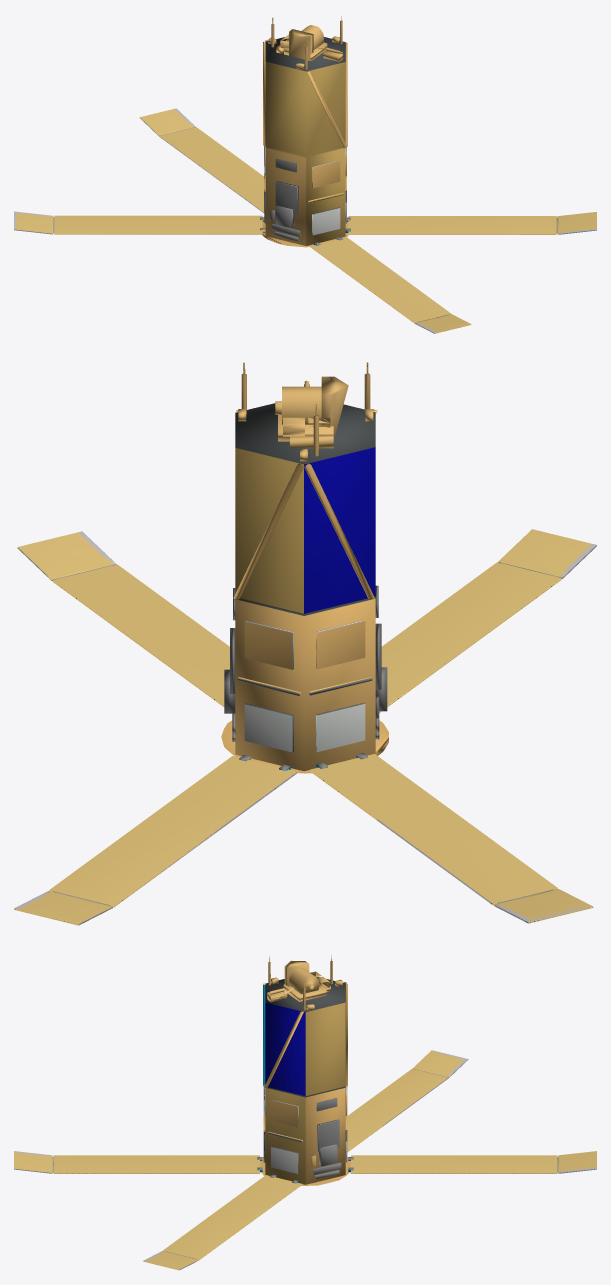
The model's file is seastar.glb.
The picture shows the model from 3 angles, top to bottom: view 1: azimuth 30°, elevation 25°; view 2: azimuth 150°, elevation 25°; view 3: azimuth 270°, elevation 25°; orthographic projection. The views are drawn at different scales.
Parts seen in each view (by area): view 1: Fake; view 2: Fake; view 3: Fake.
Part boxes in pixels (<box>): Fake: <box>14,16,596,333</box>; Fake: <box>14,362,596,925</box>; Fake: <box>14,955,596,1270</box>.
Bounding box in the file's own units: 195 × 83.71 × 219.
Materials: 1 (1 with a texture image).
